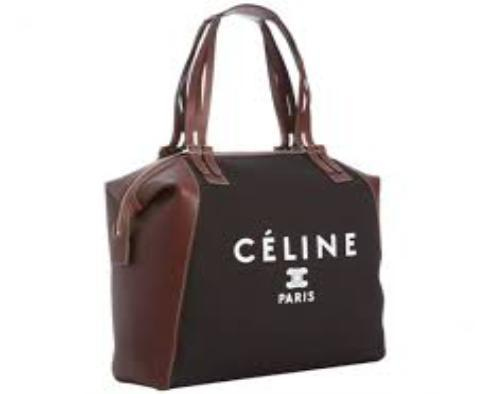CELINE: (234, 228, 358, 263)
